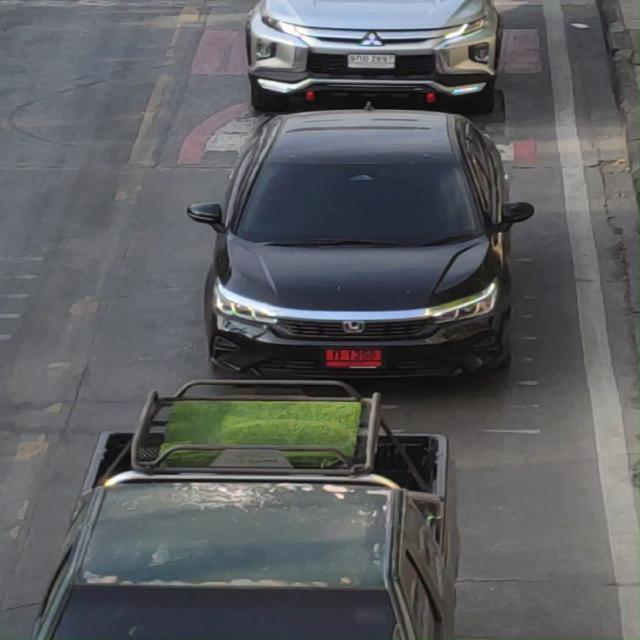car: (53, 358, 474, 640), (175, 109, 553, 387)
